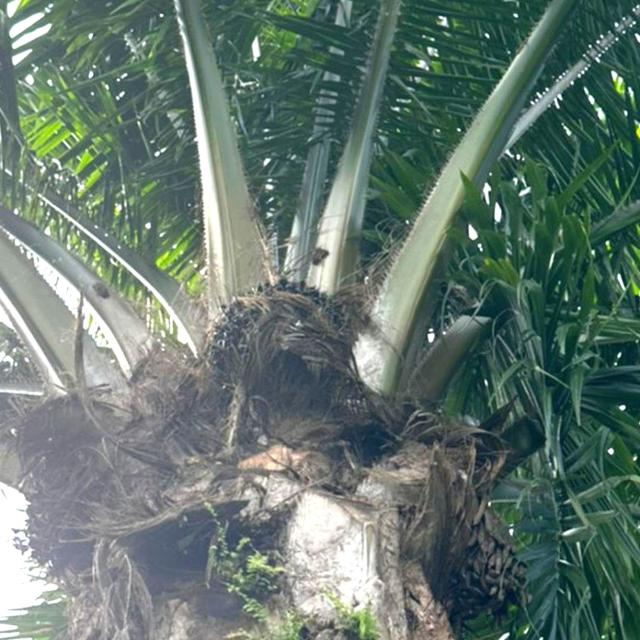unripe: (196, 262, 371, 428)
